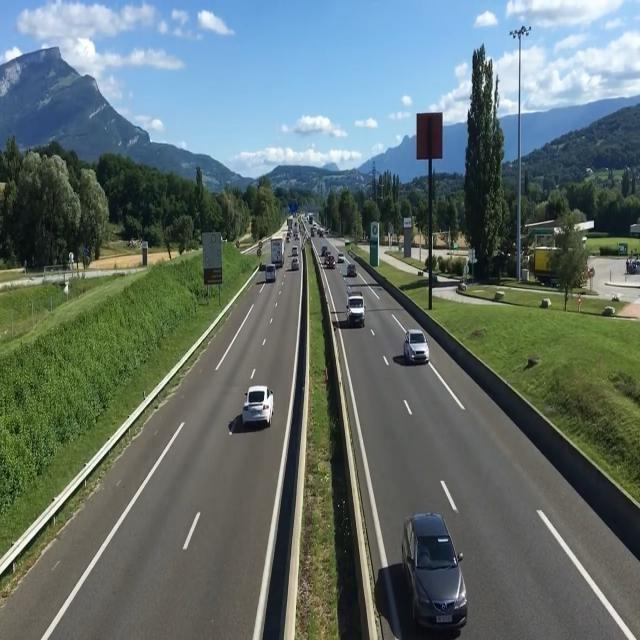Car: (404, 512, 469, 632), (242, 385, 274, 427), (403, 330, 429, 364), (346, 263, 356, 277), (291, 258, 299, 270), (321, 246, 328, 256), (338, 252, 344, 263)
Truck: (270, 235, 286, 267)
Van: (345, 292, 365, 326), (264, 264, 276, 282), (292, 246, 298, 256)
